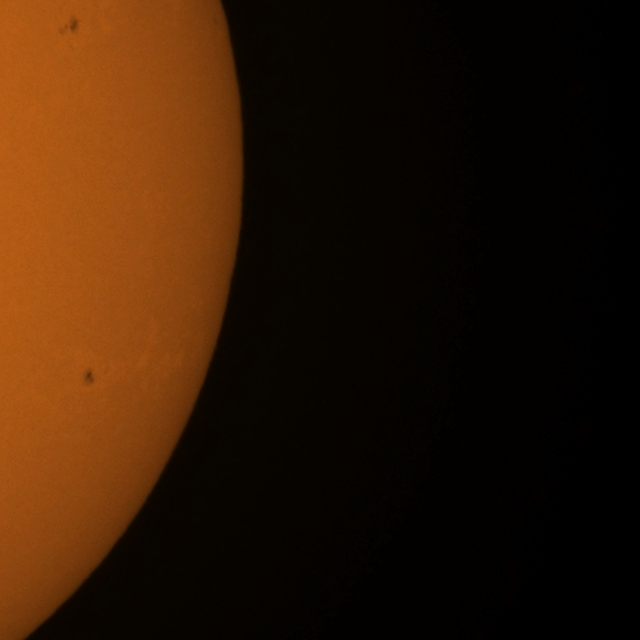sunspot: (58, 17, 81, 42), (83, 368, 96, 387)
